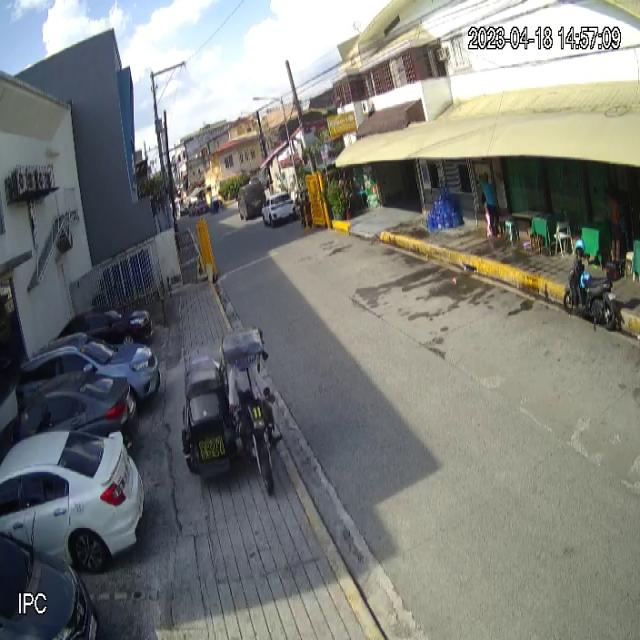Motorcycle: (563, 251, 626, 332)
Tricycle: (180, 327, 276, 499)
